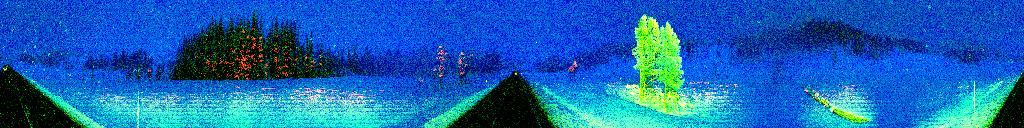pole: (972, 80, 977, 114), (136, 89, 140, 128)
